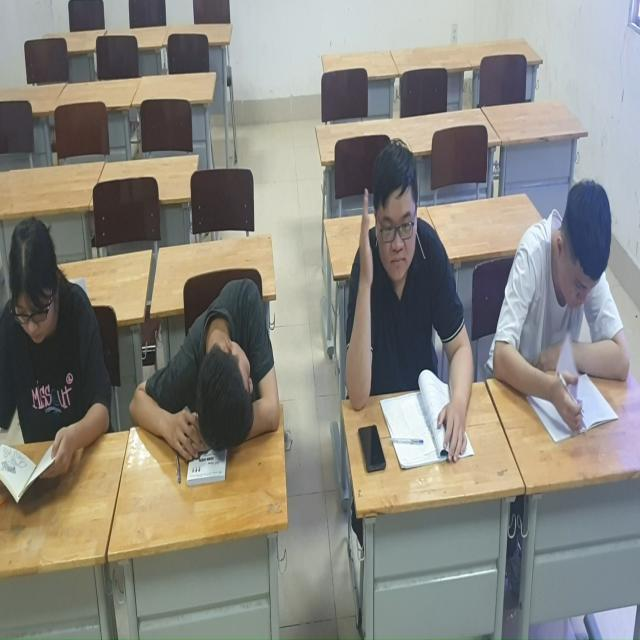sleep: (140, 268, 287, 468)
study: (340, 143, 475, 418), (0, 215, 108, 490), (497, 180, 627, 408)
